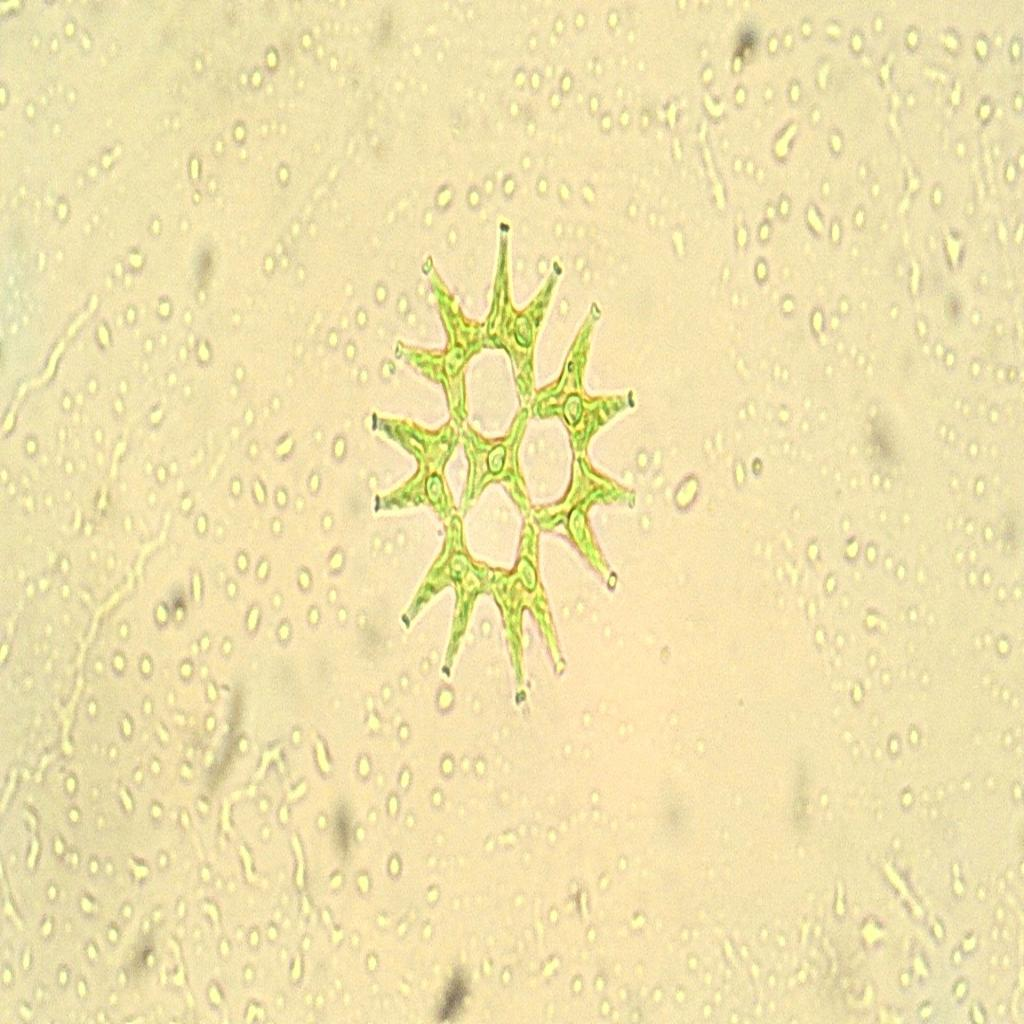Pediastrum_75T: (356, 214, 656, 726)
